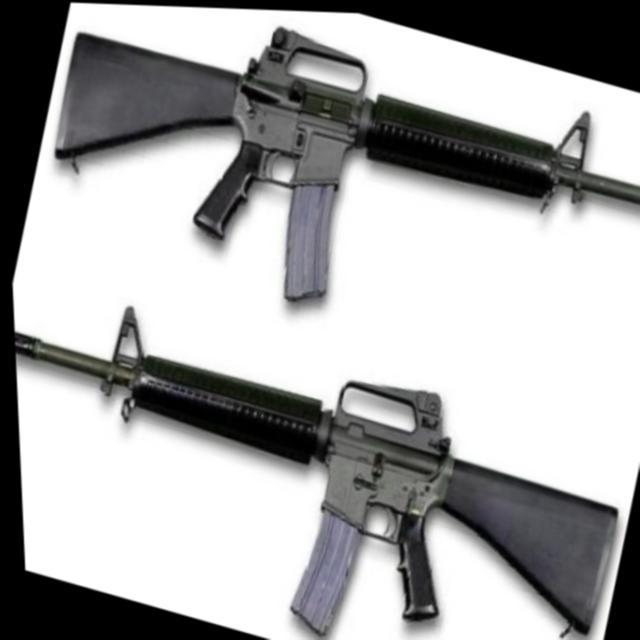weapon: (23, 1, 640, 396), (9, 272, 636, 640)
